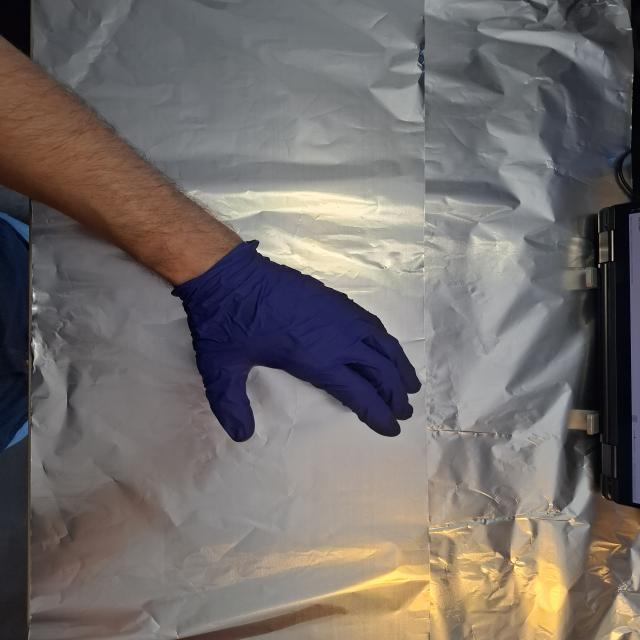glove_on: (180, 240, 426, 445)
